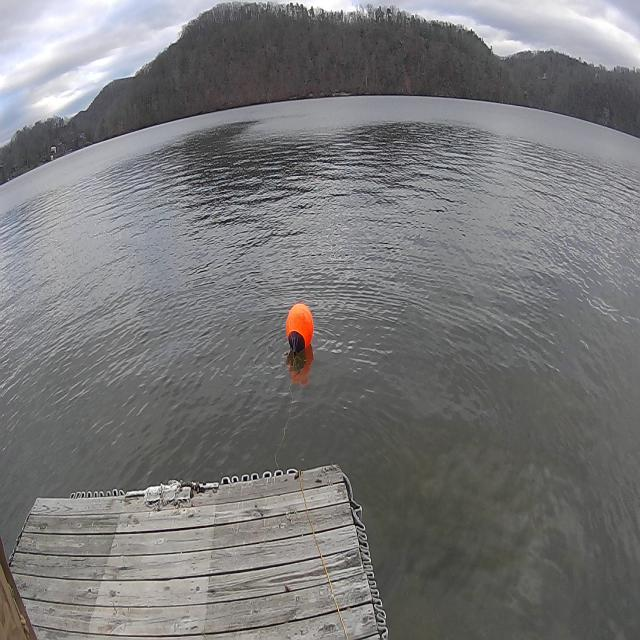Buoy: (285, 301, 315, 350)
